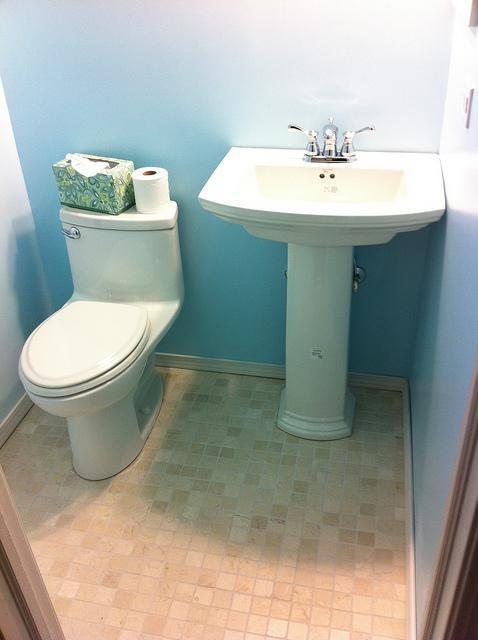Lavamanos: (205, 119, 443, 218)
Sanitario: (8, 198, 184, 488)
